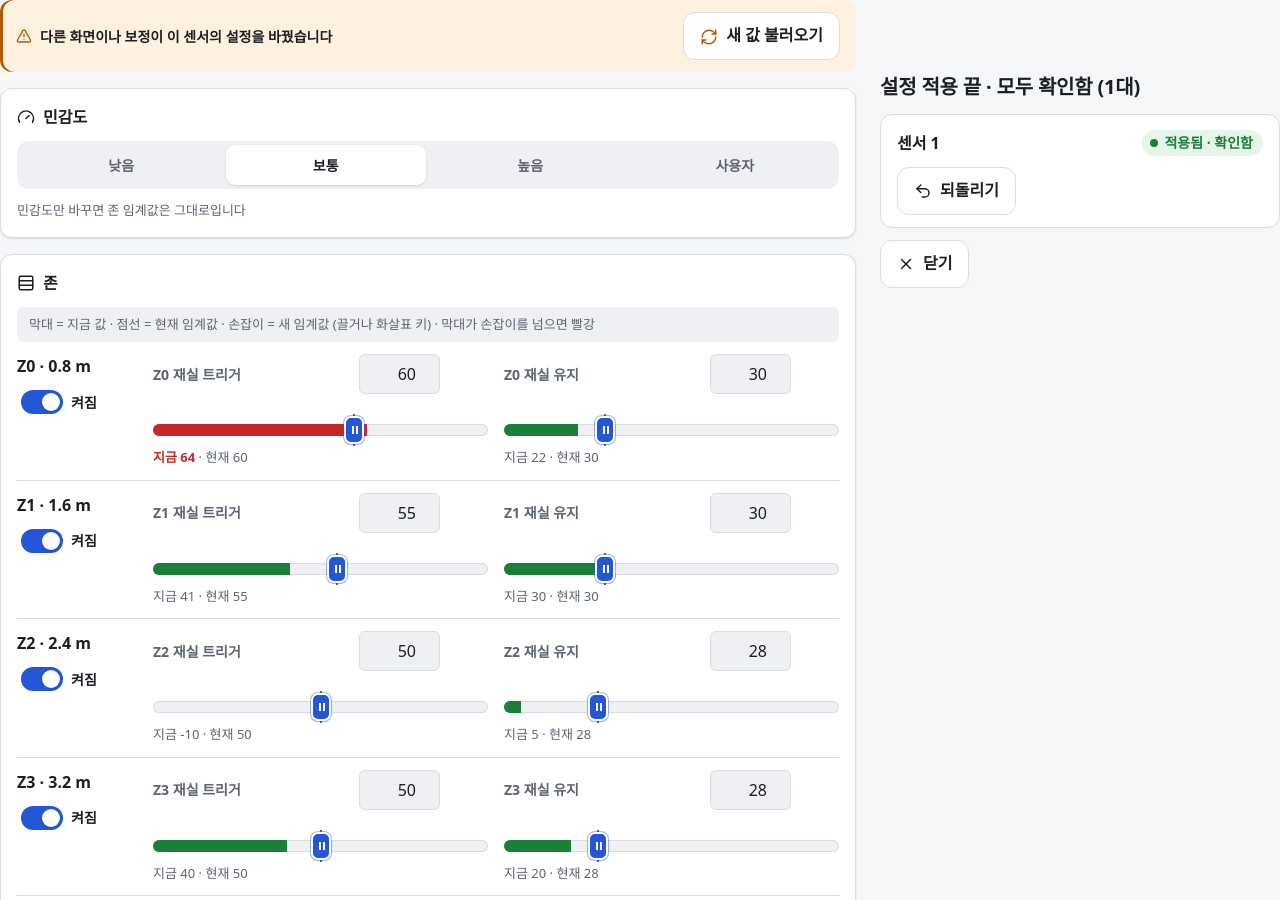
SettingsTab › my apply verified: the draft clears and the device is read again
The image size is (1280, 900).
expect the heading "설정 적용 끝 · 모두 확인함 (1대)" is shown: met, box [880,73,1140,100]
Click the button "닫기". click: [925, 264]
box: [880,240,970,288]
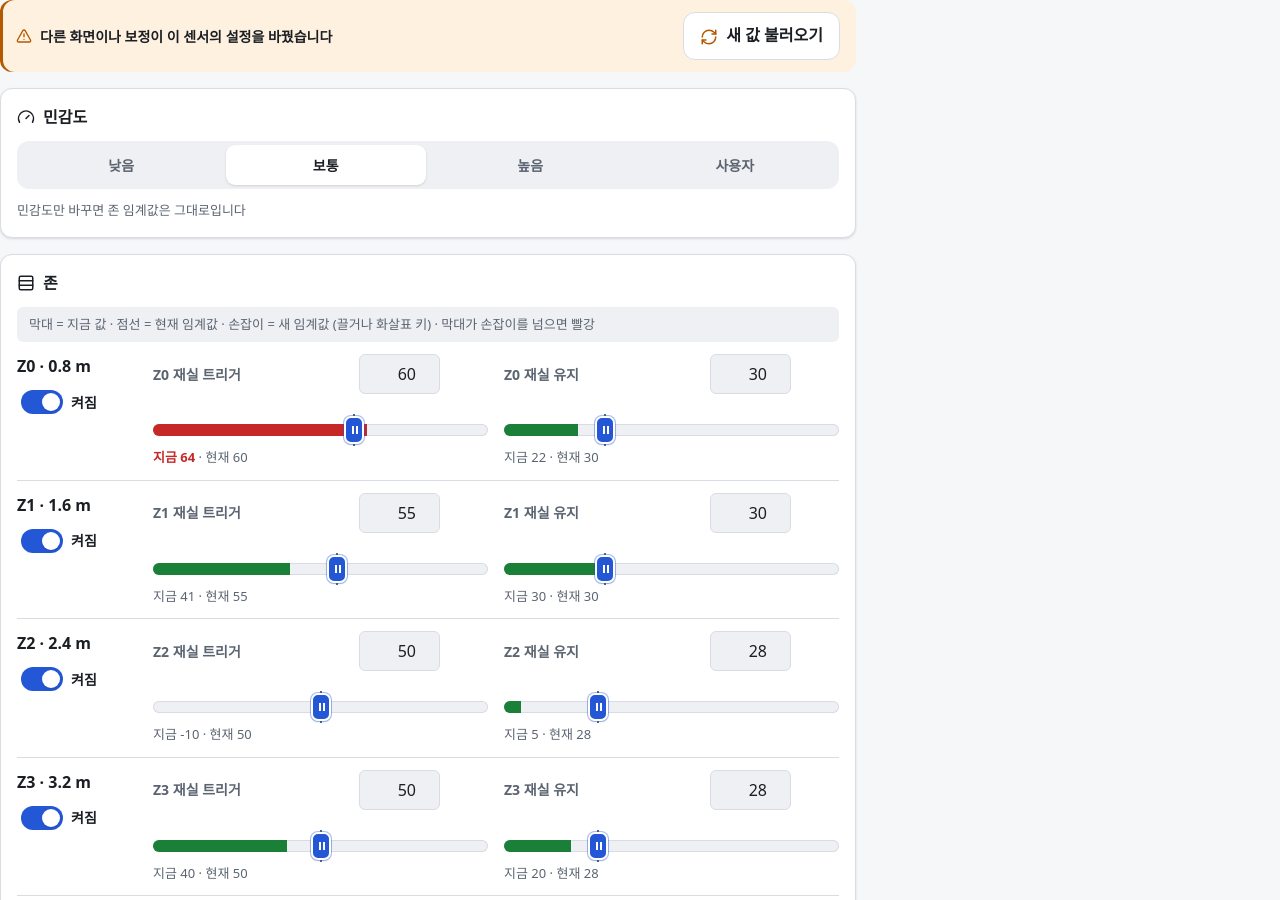
expect the heading "설정 적용 끝" is gone: met
